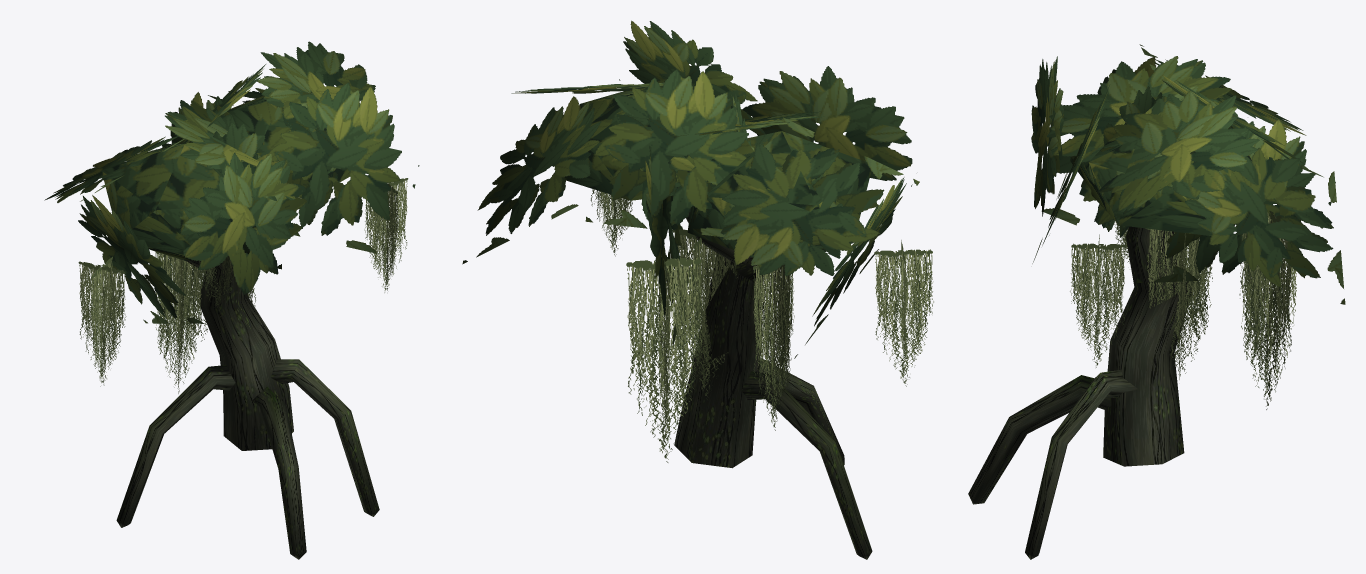
Rendered from mirewell_bog_tree_b_lod1.glb.
The picture shows the model from 3 angles, left to right: view 1: azimuth 30°, elevation 25°; view 2: azimuth 150°, elevation 25°; view 3: azimuth 270°, elevation 25°; orthographic projection. The views are drawn at different scales.
Visible parts, largest first — view 1: mirewell_bog_tree_b_lod1; view 2: mirewell_bog_tree_b_lod1; view 3: mirewell_bog_tree_b_lod1.
Part boxes in pixels (box(x1,y1,x2,y2)): mirewell_bog_tree_b_lod1: box(44, 41, 419, 559); mirewell_bog_tree_b_lod1: box(462, 20, 933, 559); mirewell_bog_tree_b_lod1: box(968, 44, 1345, 559).
Bounding box in the file's own units: 3.03 × 3.5 × 2.48.
3 materials, 3 textured.
